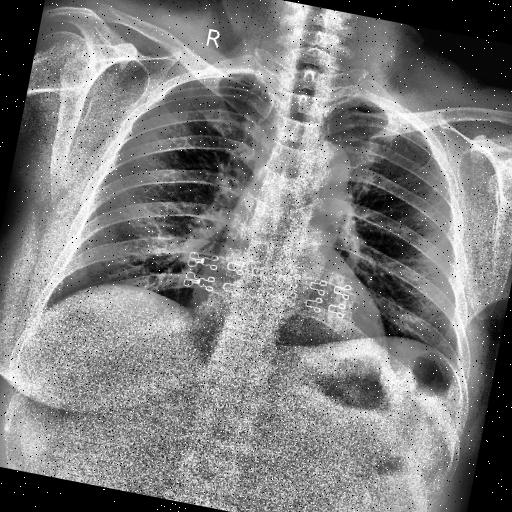0- Aortic enlargement: (286, 130, 354, 204), (294, 136, 356, 216), (293, 135, 358, 195)
